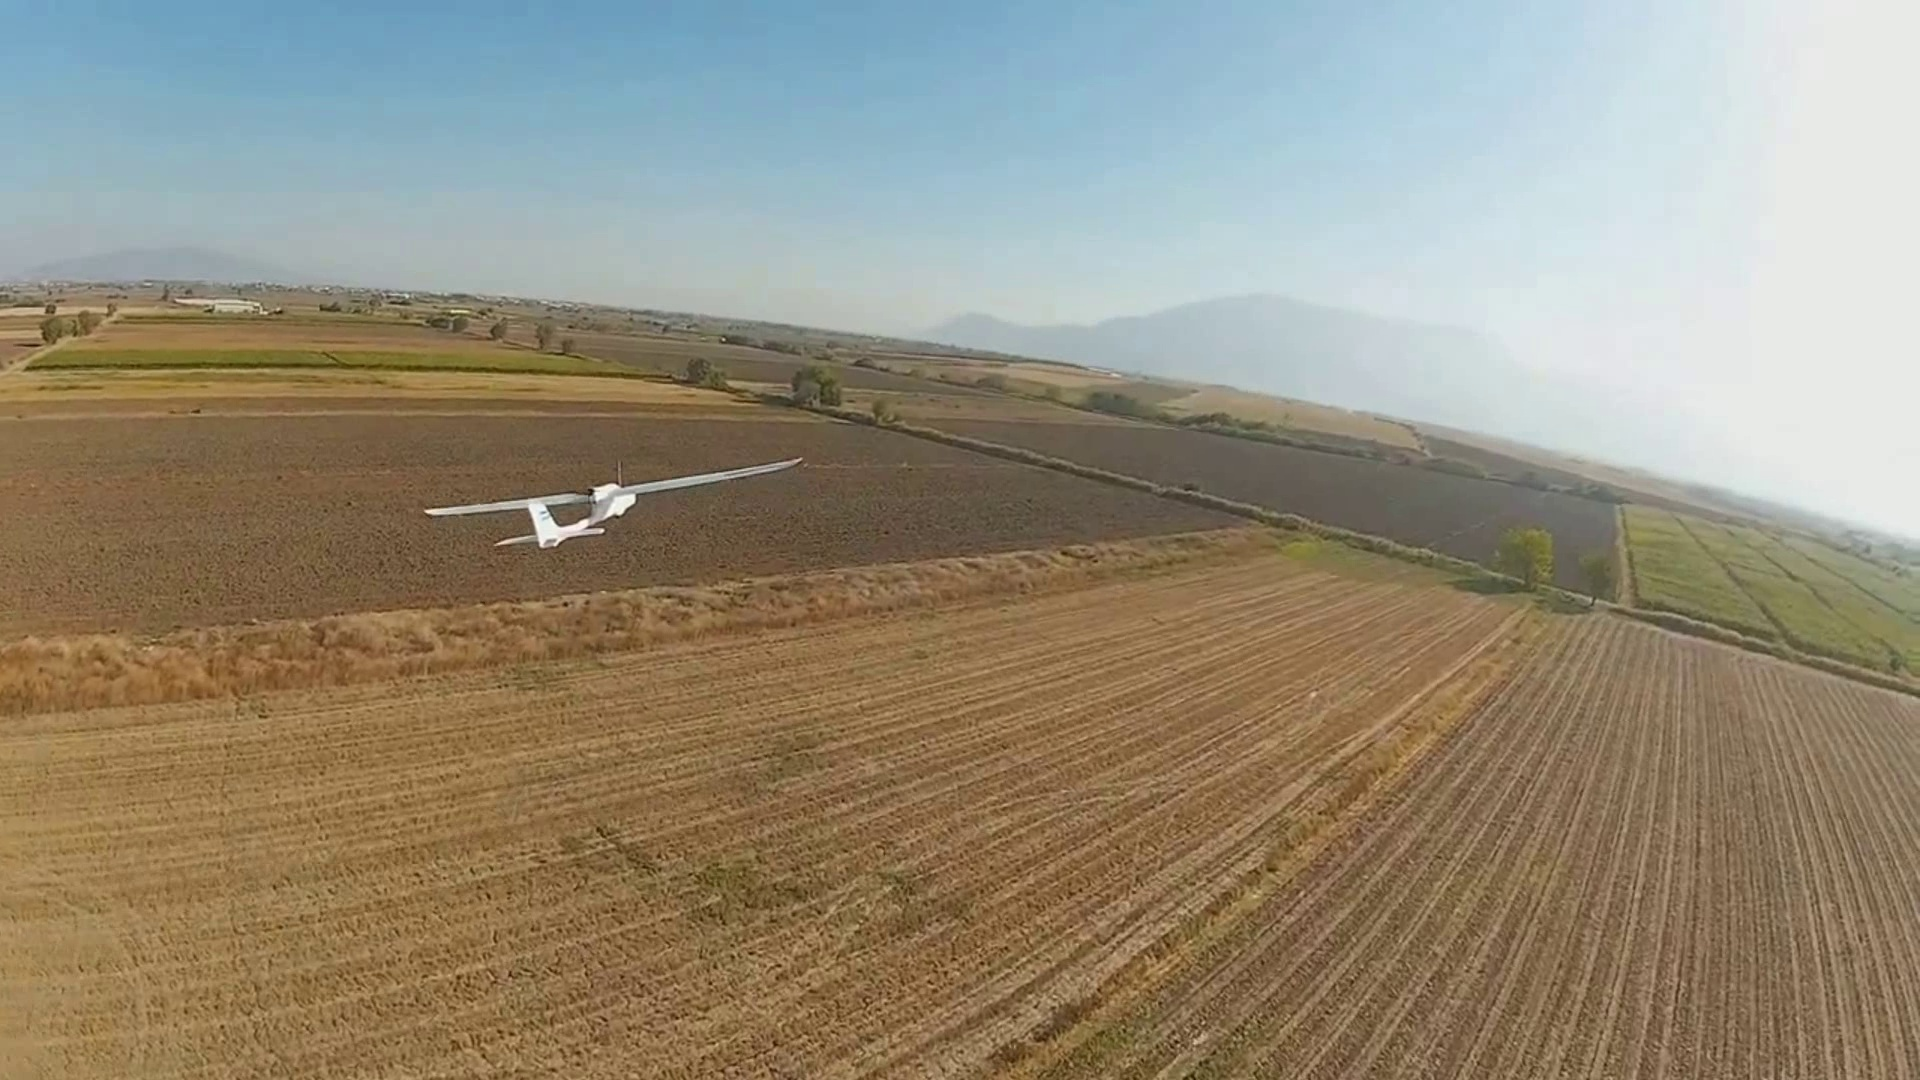airplane: (422, 455, 808, 551)
